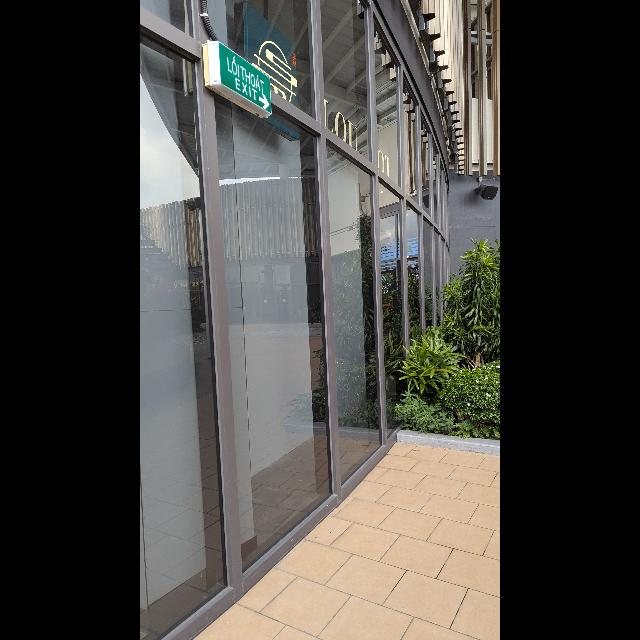exit: (215, 44, 272, 114)
